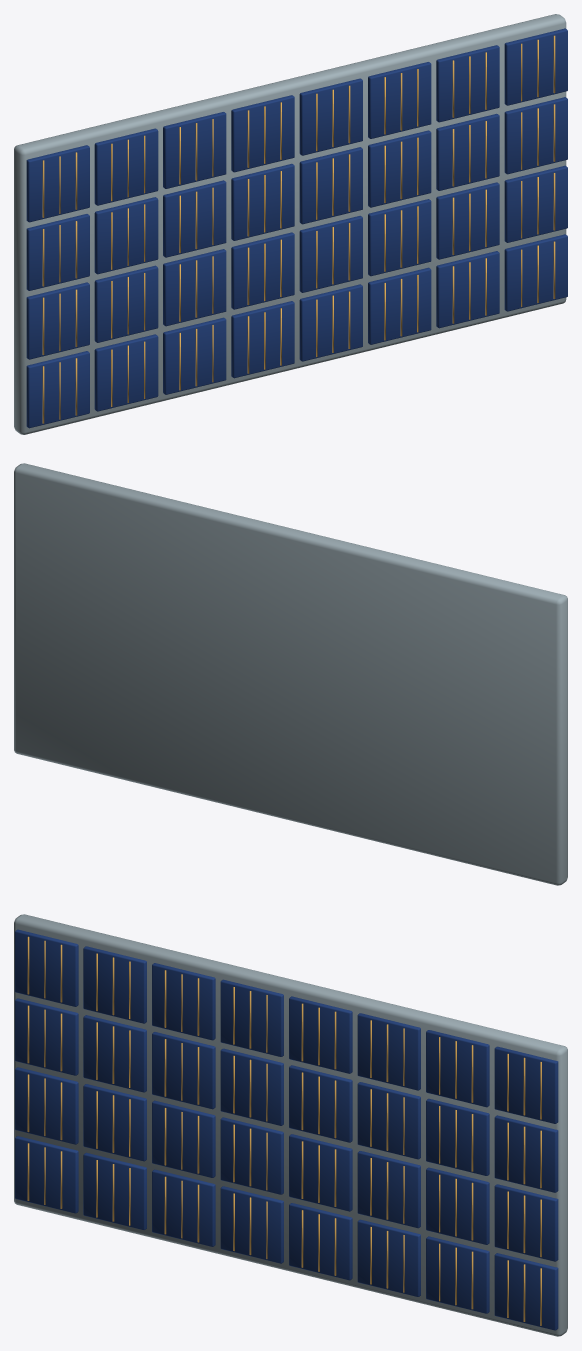
File: solar.glb
3 views of the same model, one above another, from view 1: azimuth 30°, elevation 25°; view 2: azimuth 150°, elevation 25°; view 3: azimuth 330°, elevation 25° (orthographic).
Parts seen in each view (by area): view 1: Array frame, Solar cell.006, Solar cell.007, Solar cell.009, Solar cell, Solar cell.001, Solar cell.003, Solar cell.005, Solar cell.008, Solar cell.010, Solar cell.004, Solar cell.002 (+21 smaller); view 2: Array frame; view 3: Array frame, Solar cell.028, Solar cell.029, Solar cell.030, Solar cell.031, Solar cell.001, Solar cell.013, Solar cell.008, Solar cell.009, Solar cell.014, Solar cell.023, Solar cell (+21 smaller).
Boxes of the visible parts, box(x1,y1,x2,y2) form: Array frame: box(14, 14, 566, 434); Solar cell.006: box(94, 197, 158, 274); Solar cell.007: box(94, 128, 158, 205); Solar cell.009: box(163, 249, 226, 326); Solar cell: box(26, 351, 89, 428); Solar cell.001: box(26, 282, 89, 359); Solar cell.003: box(26, 145, 89, 222); Solar cell.005: box(94, 265, 158, 342); Solar cell.008: box(163, 317, 226, 394); Solar cell.010: box(163, 180, 226, 257); Solar cell.004: box(94, 334, 158, 411); Solar cell.002: box(26, 214, 89, 290); Array frame: box(14, 463, 567, 885); Array frame: box(14, 914, 567, 1336); Solar cell.028: box(494, 1253, 558, 1330); Solar cell.029: box(494, 1184, 558, 1261); Solar cell.030: box(494, 1115, 558, 1192); Solar cell.031: box(494, 1046, 558, 1123); Solar cell.001: box(15, 1067, 78, 1144); Solar cell.013: box(220, 1117, 283, 1194); Solar cell.008: box(152, 1169, 215, 1246); Solar cell.009: box(152, 1100, 215, 1177); Solar cell.014: box(220, 1048, 283, 1125); Solar cell.023: box(357, 1013, 420, 1090); Solar cell: box(15, 1136, 78, 1213).
Size of the model in its own units: 2 by 1 by 0.08.
